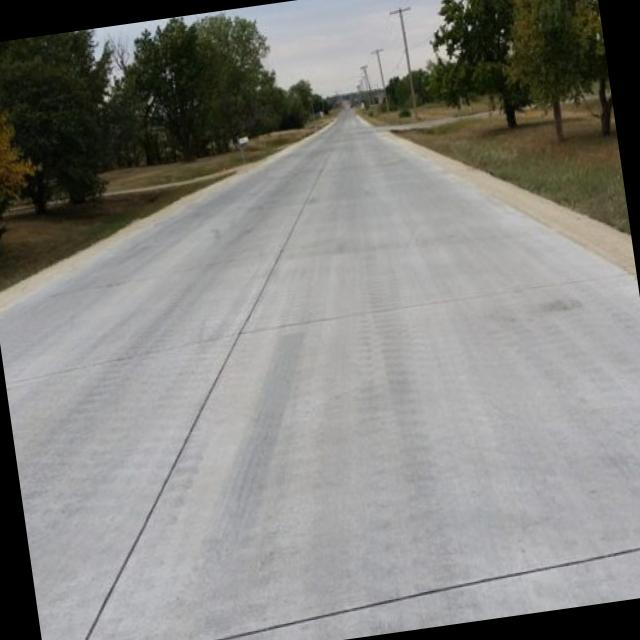cement: (0, 111, 640, 640)
grass: (432, 140, 631, 233)
